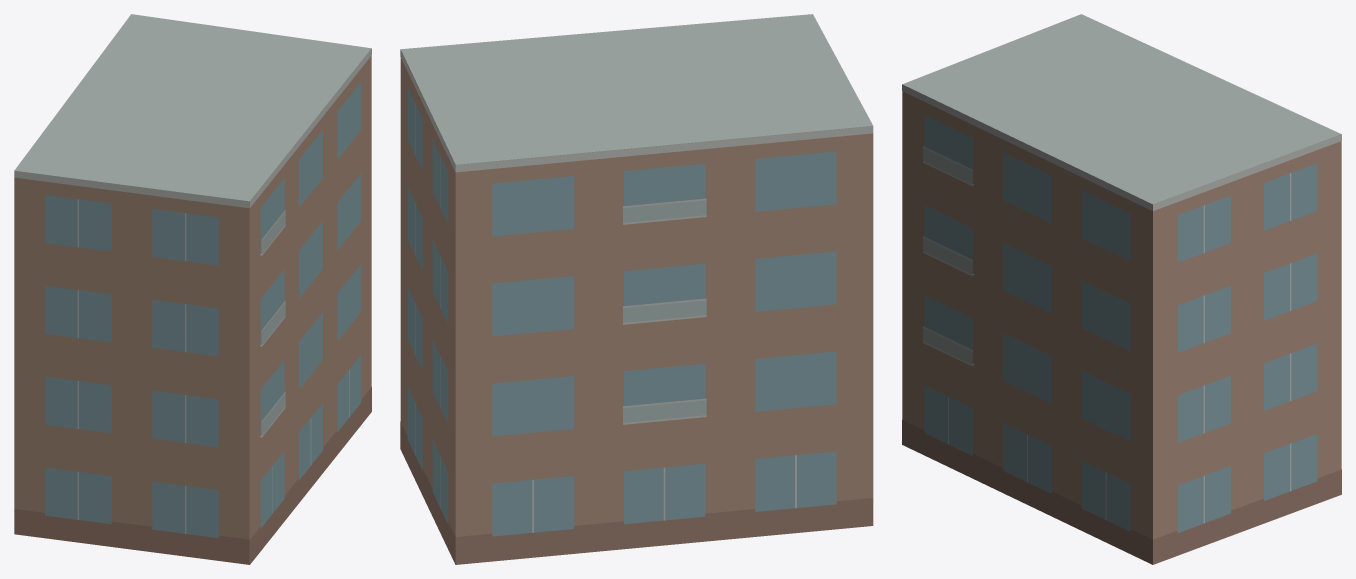
The model's file is survey-upis-33005239.glb.
The picture shows the model from 3 angles, left to right: view 1: azimuth 30°, elevation 25°; view 2: azimuth 150°, elevation 25°; view 3: azimuth 270°, elevation 25°; orthographic projection. The views are drawn at different scales.
Visible parts, largest first — view 1: survey-upis-33005239.tmp; view 2: survey-upis-33005239.tmp; view 3: survey-upis-33005239.tmp.
Part boxes in pixels (x1,y1,x2,y2): survey-upis-33005239.tmp: (14, 14, 371, 564); survey-upis-33005239.tmp: (400, 14, 873, 564); survey-upis-33005239.tmp: (902, 14, 1341, 564).
Size of the model in its own units: 14.57 by 12.85 by 14.21.
